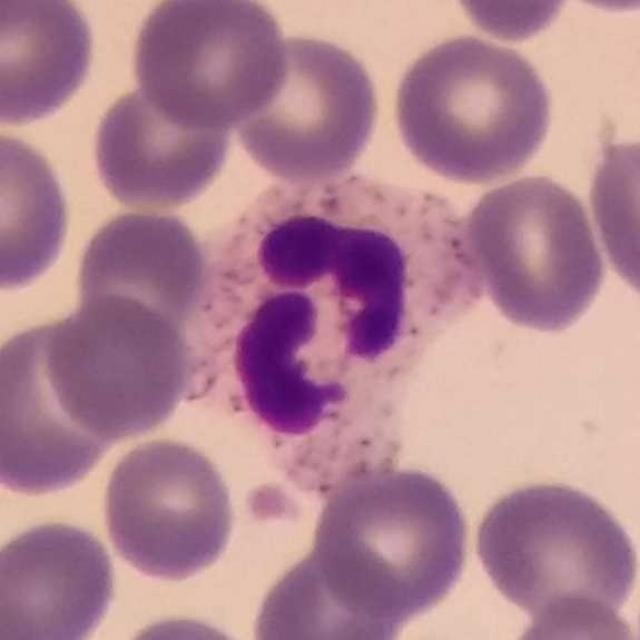Neutrophil: (186, 169, 495, 496)
Platelets: (243, 480, 304, 534)
RBC: (308, 460, 476, 622), (387, 30, 558, 186), (468, 473, 640, 627), (460, 169, 611, 336), (231, 28, 385, 184), (0, 315, 126, 500), (41, 290, 193, 440), (98, 433, 240, 585), (127, 0, 293, 129), (70, 202, 210, 342), (87, 82, 235, 212), (247, 542, 411, 639), (0, 514, 121, 638), (0, 0, 101, 129), (0, 125, 76, 295), (584, 124, 640, 310), (501, 590, 640, 640), (446, 0, 574, 46), (104, 609, 268, 640), (1, 593, 60, 639), (534, 0, 640, 17)
